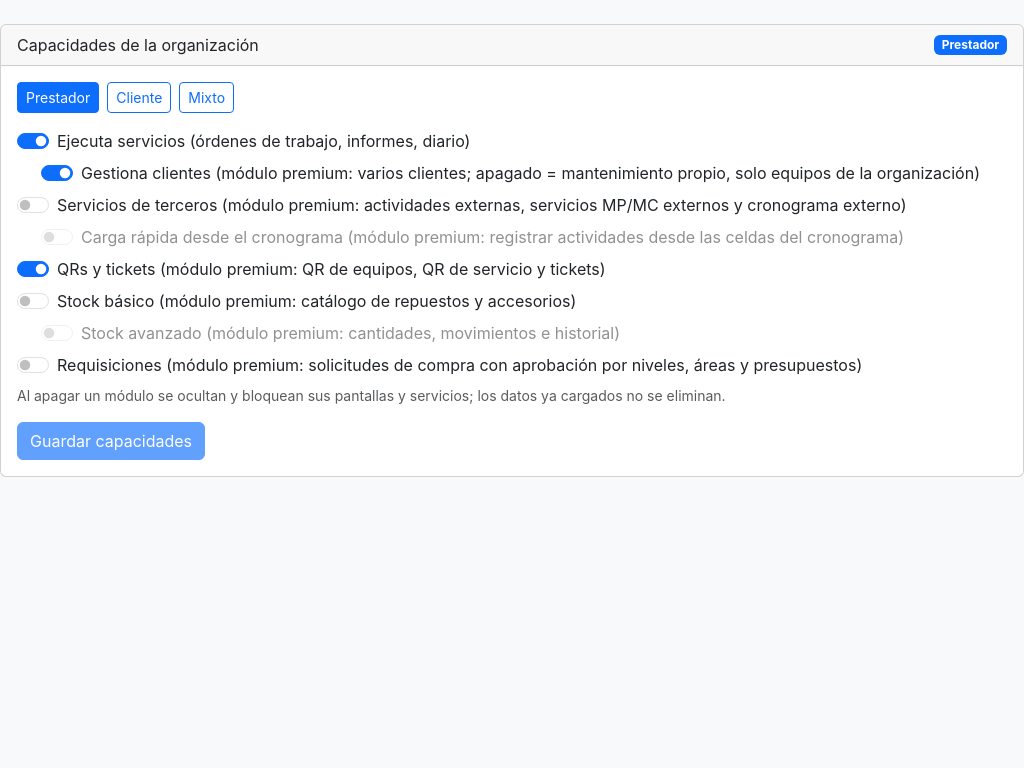
TenantCapabilitiesPanel › turning only the QR module off warns that printed QR codes will show not found
Click the checkbox labelled "QRs y tickets" at coordinates (33, 269), box [17,261,49,277]
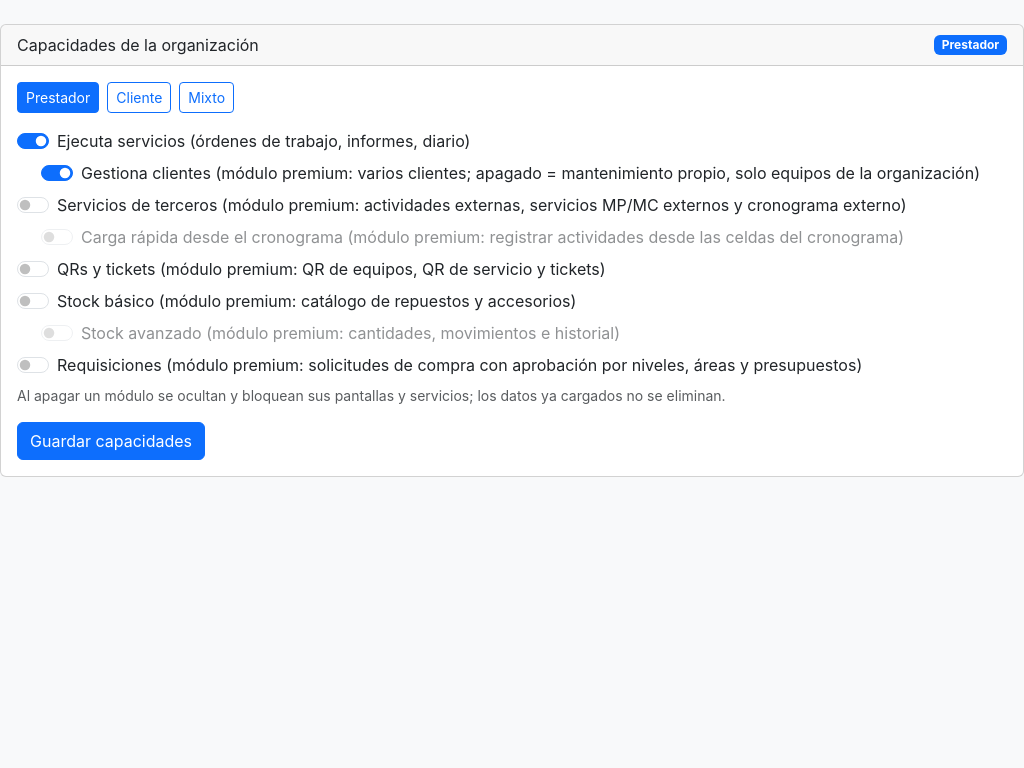
Click the button "Guardar capacidades" at coordinates (111, 441), box [17,422,205,460]
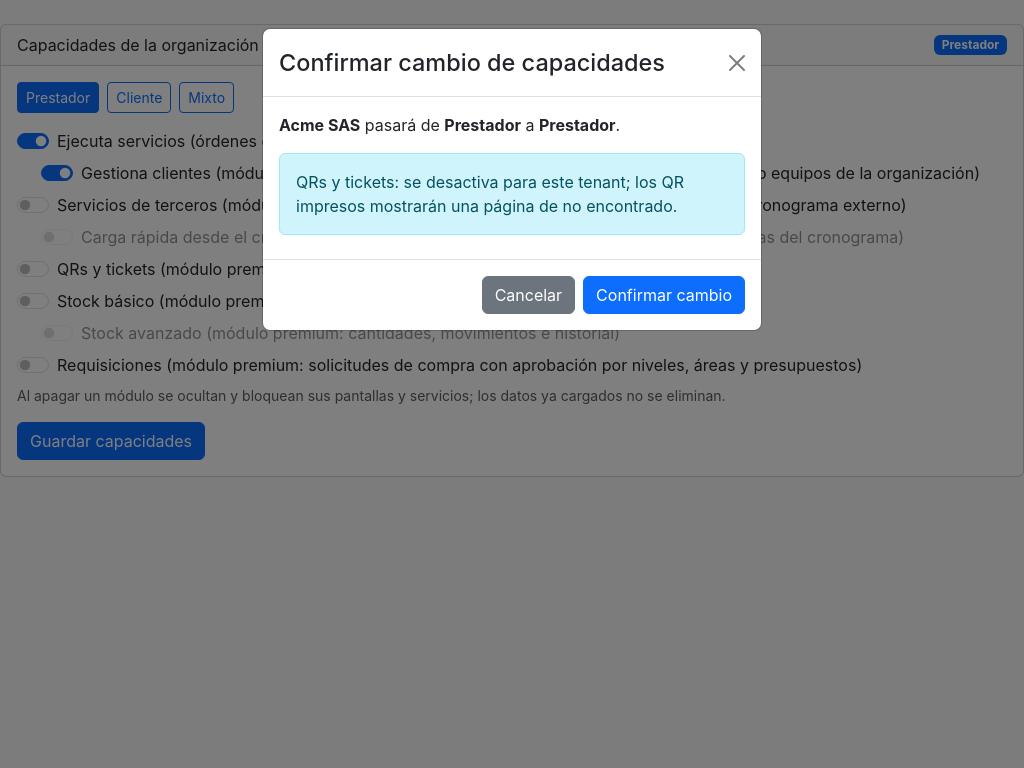
Now the text "no encontrado" is shown, box [296,172,684,216]
